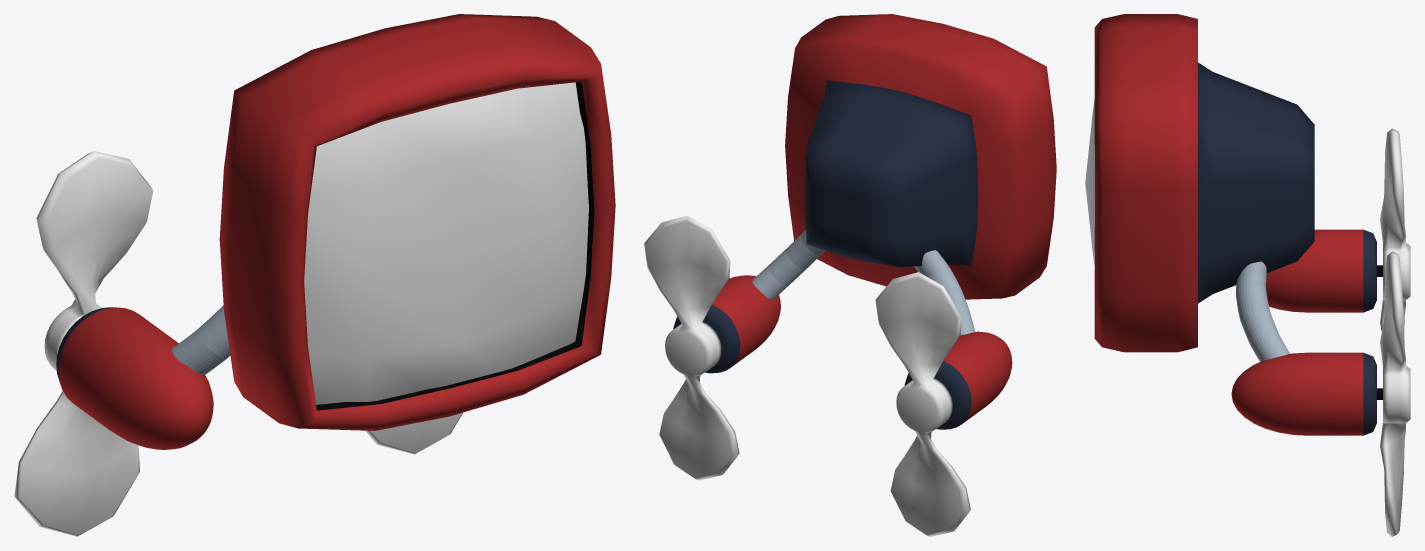
File: TutorialTV.fbx
3 views of the same model, side by side, from view 1: azimuth 30°, elevation 25°; view 2: azimuth 150°, elevation 25°; view 3: azimuth 270°, elevation 25° (orthographic). The views are drawn at different scales.
Parts seen in each view (by area): view 1: TV, Glass, RightPropeller, LeftPropeller; view 2: TV, RightPropeller, LeftPropeller; view 3: TV, LeftPropeller, RightPropeller, Glass.
Boxes of the visible parts, <box> form: TV: <box>56,14,615,449</box>; Glass: <box>304,82,588,404</box>; RightPropeller: <box>14,151,153,536</box>; LeftPropeller: <box>365,412,462,454</box>; TV: <box>673,14,1056,429</box>; RightPropeller: <box>875,272,970,536</box>; LeftPropeller: <box>644,215,739,480</box>; TV: <box>1094,14,1382,435</box>; LeftPropeller: <box>1380,251,1410,536</box>; RightPropeller: <box>1380,128,1410,331</box>; Glass: <box>1085,99,1094,268</box>.
Size of the model in its own units: 313 by 358 by 249.
1 material, 1 textured.
